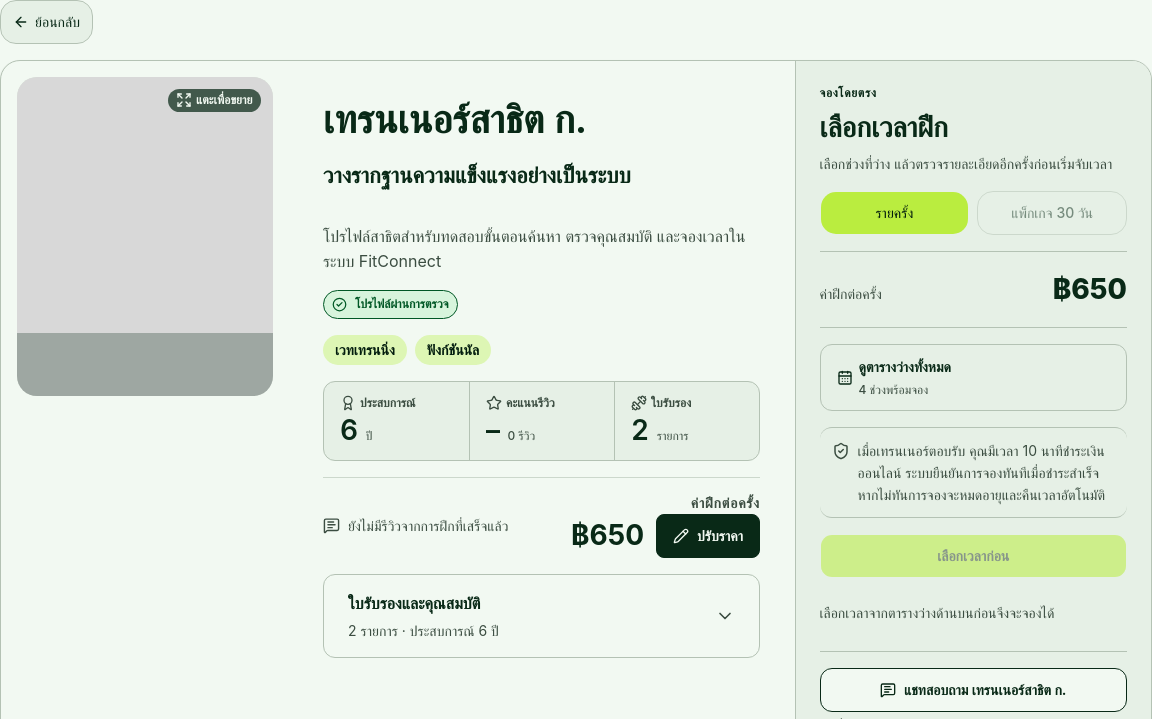
Test case: TrainerDetail › lets a trainer update only their own profile price after the API succeeds
Step 1. Click the button "ปรับราคา" → (708, 536), box [656, 514, 760, 558]
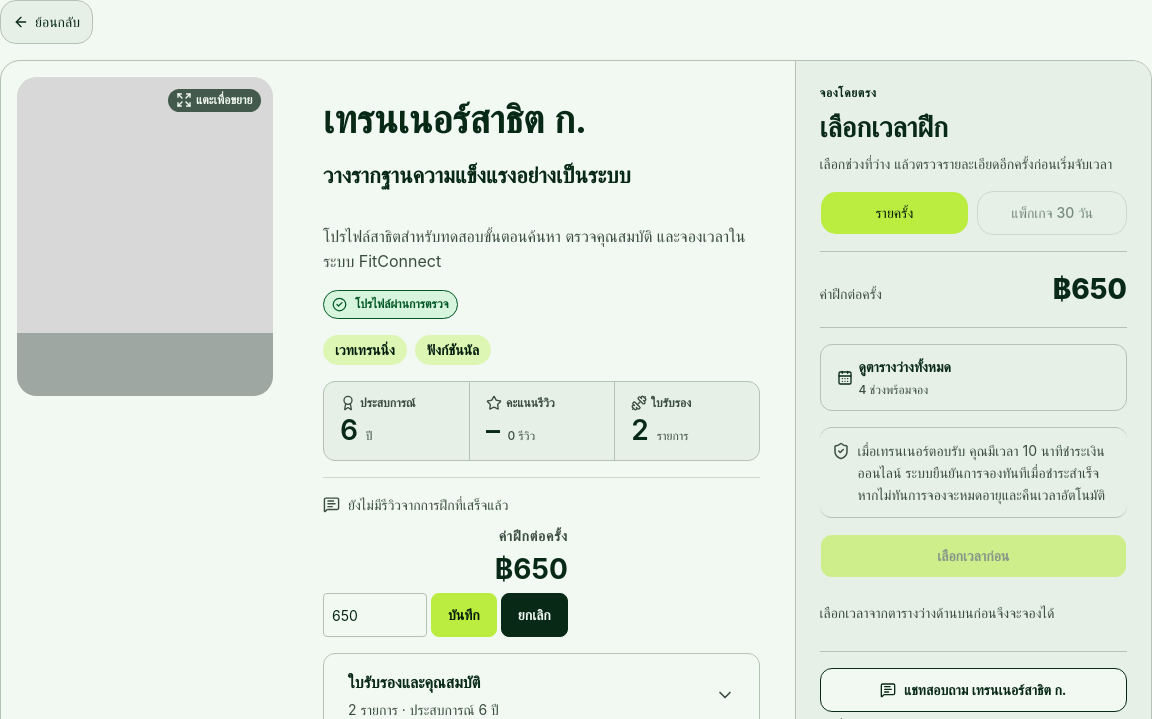
Step 2. Replace the text in the number field named "ค่าฝึกต่อครั้ง" with "780" → (375, 615), box [323, 593, 427, 637]
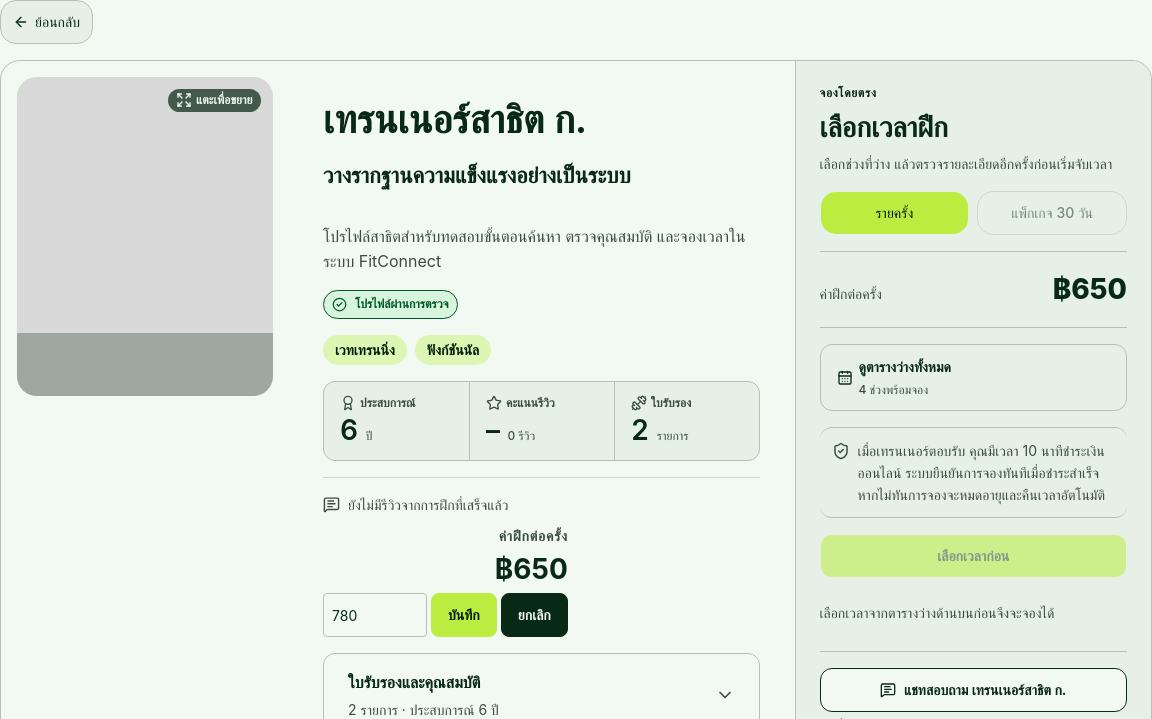
Step 3. Click the button "บันทึก" → (464, 615), box [431, 593, 497, 637]
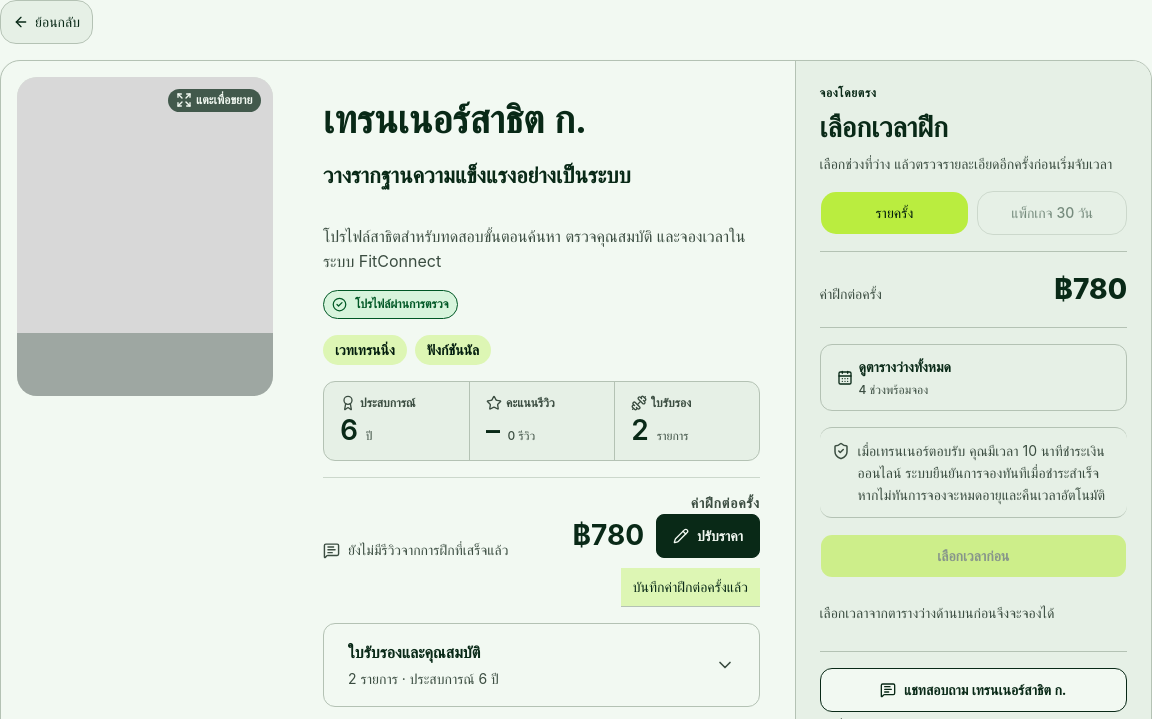
Expected: the message reads "บันทึกค่าฝึกต่อครั้งแล้ว", [633, 578, 748, 595]
Expected: the text "฿780" below "คะแนนรีวิว" is shown, [572, 518, 644, 552]
